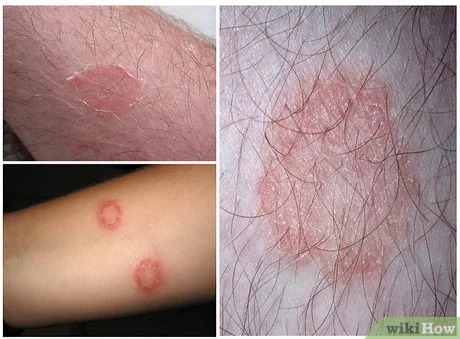Ringworm: (241, 62, 422, 286), (58, 51, 155, 124), (127, 246, 165, 301), (93, 193, 125, 237)
